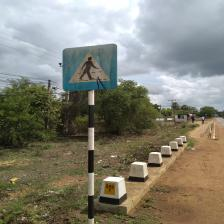blueboard: (62, 43, 118, 91)
